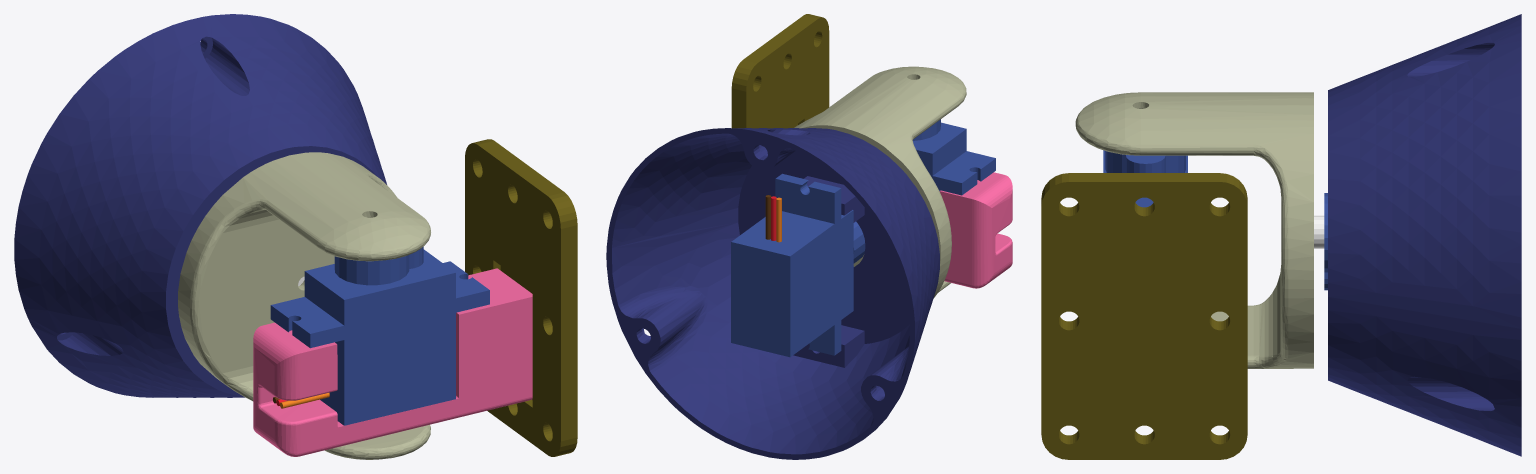
Rendered from tinker.obj.
3 renders of one model, left to right at view 1: azimuth 30°, elevation 25°; view 2: azimuth 150°, elevation 25°; view 3: azimuth 270°, elevation 25°, orthographic. The views are drawn at different scales.
Visible parts, largest first — view 1: group_0_3356795, group_0_11909273, group_0_3888547, group_0_6970902, group_0_16345508; view 2: group_0_3356795, group_0_3888547, group_0_11909273, group_0_6970902, group_0_16345508; view 3: group_0_3356795, group_0_6970902, group_0_11909273, group_0_3888547.
Boxes of the visible parts, left/top/right/bottom form: group_0_3356795: left=14, top=14, right=386, bottom=397; group_0_11909273: left=178, top=152, right=430, bottom=459; group_0_3888547: left=270, top=247, right=489, bottom=425; group_0_6970902: left=465, top=139, right=577, bottom=456; group_0_16345508: left=253, top=268, right=532, bottom=456; group_0_3356795: left=606, top=128, right=939, bottom=459; group_0_3888547: left=731, top=119, right=995, bottom=357; group_0_11909273: left=794, top=66, right=966, bottom=298; group_0_6970902: left=731, top=14, right=829, bottom=128; group_0_16345508: left=939, top=172, right=1012, bottom=288; group_0_3356795: left=1328, top=14, right=1521, bottom=456; group_0_6970902: left=1041, top=173, right=1247, bottom=459; group_0_11909273: left=1075, top=92, right=1313, bottom=368; group_0_3888547: left=1103, top=150, right=1327, bottom=290.
Bounding box in the file's own units: 63.95 × 63.92 × 69.4.
